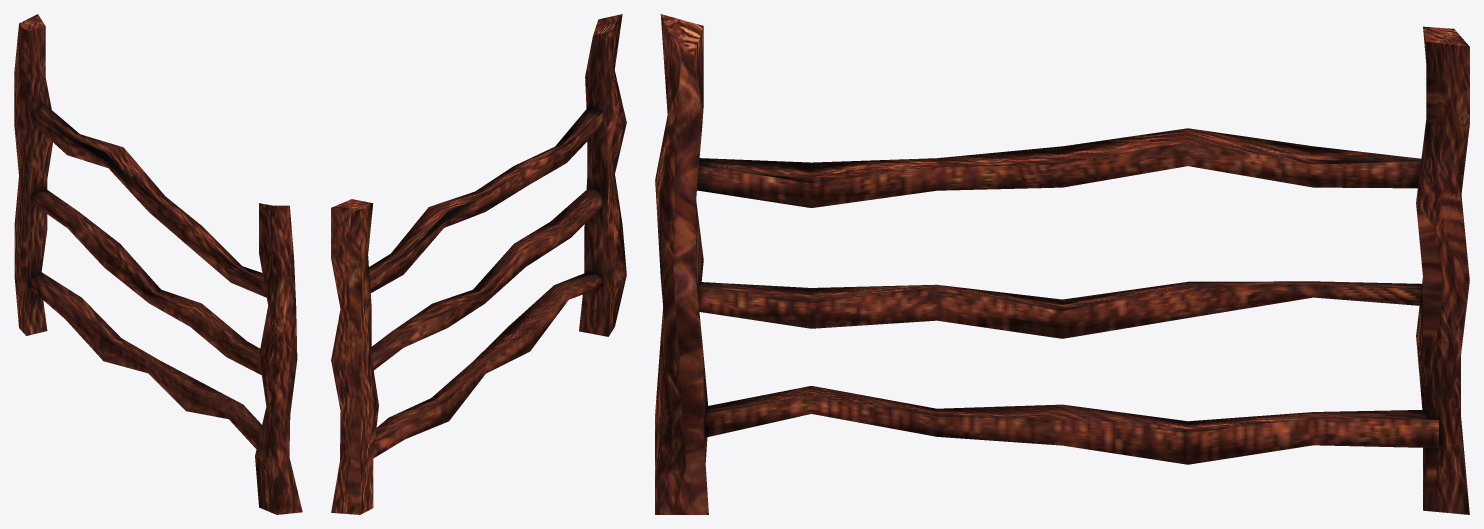
File: fence1.fbx
3 views of the same model, side by side, from view 1: azimuth 30°, elevation 25°; view 2: azimuth 150°, elevation 25°; view 3: azimuth 270°, elevation 25° (orthographic). The views are drawn at different scales.
Visible parts, largest first — view 1: Cube, Cube.001; view 2: Cube.001, Cube; view 3: Cube, Cube.001.
Part boxes in pixels (x1=…): Cube: x1=29, y1=105, x2=266, y2=448; Cube.001: x1=14, y1=14, x2=302, y2=514; Cube.001: x1=331, y1=14, x2=626, y2=514; Cube: x1=369, y1=106, x2=604, y2=458; Cube: x1=697, y1=128, x2=1438, y2=464; Cube.001: x1=655, y1=14, x2=1469, y2=514.
Size of the model in its own units: 22.86 by 225 by 346.
